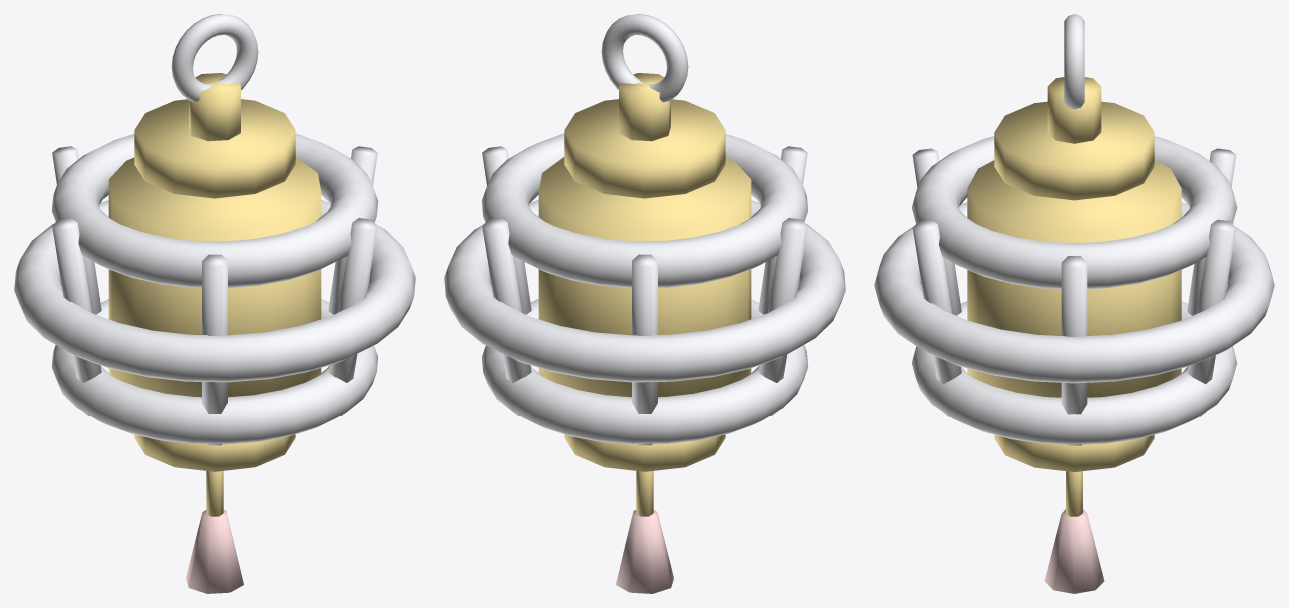
The model's file is lantern.glb.
The picture shows the model from 3 angles, left to right: view 1: azimuth 30°, elevation 25°; view 2: azimuth 150°, elevation 25°; view 3: azimuth 270°, elevation 25°; orthographic projection.
Parts seen in each view (by area): view 1: Rib1, Glow, Rib2, Rib0, CapTop, Hook, CapBot, Tassel, Spoke4, Neck, Spoke3, Spoke5 (+3 smaller); view 2: Rib1, Glow, Rib2, Rib0, CapTop, Hook, CapBot, Tassel, Spoke2, Neck, Spoke3, Spoke1 (+3 smaller); view 3: Rib1, Glow, Rib2, Rib0, CapTop, CapBot, Tassel, Spoke0, Neck, Spoke1, Spoke5, Hook (+3 smaller).
Boxes of the visible parts, box(x1,y1,x2,y2) form: Rib1: box(14, 200, 415, 382); Glow: box(108, 157, 321, 397); Rib2: box(51, 133, 378, 288); Rib0: box(51, 299, 378, 444); CapTop: box(134, 99, 295, 198); Hook: box(171, 14, 258, 102); CapBot: box(134, 434, 295, 471); Tassel: box(186, 510, 243, 593); Spoke4: box(202, 254, 227, 445); Neck: box(189, 73, 240, 141); Spoke3: box(52, 218, 101, 415); Spoke5: box(328, 218, 377, 415); Rib1: box(444, 200, 845, 382); Glow: box(538, 157, 751, 397); Rib2: box(481, 133, 808, 288); Rib0: box(481, 299, 808, 444); CapTop: box(564, 99, 725, 198); Hook: box(601, 14, 688, 102); CapBot: box(564, 434, 725, 471); Tassel: box(616, 510, 673, 593); Spoke2: box(632, 254, 657, 445); Neck: box(619, 73, 670, 141); Spoke3: box(758, 218, 807, 415); Spoke1: box(482, 218, 531, 415); Rib1: box(874, 202, 1274, 383); Glow: box(967, 160, 1181, 397); Rib2: box(911, 136, 1237, 289); Rib0: box(912, 301, 1236, 444); CapTop: box(994, 101, 1154, 200); CapBot: box(994, 434, 1154, 471); Tassel: box(1044, 509, 1104, 593); Spoke0: box(1061, 256, 1087, 445); Neck: box(1047, 77, 1101, 143); Spoke1: box(1187, 219, 1236, 416); Spoke5: box(912, 219, 961, 416); Hook: box(1064, 14, 1084, 109).
Size of the model in its own units: 0.374 by 0.58 by 0.374.
